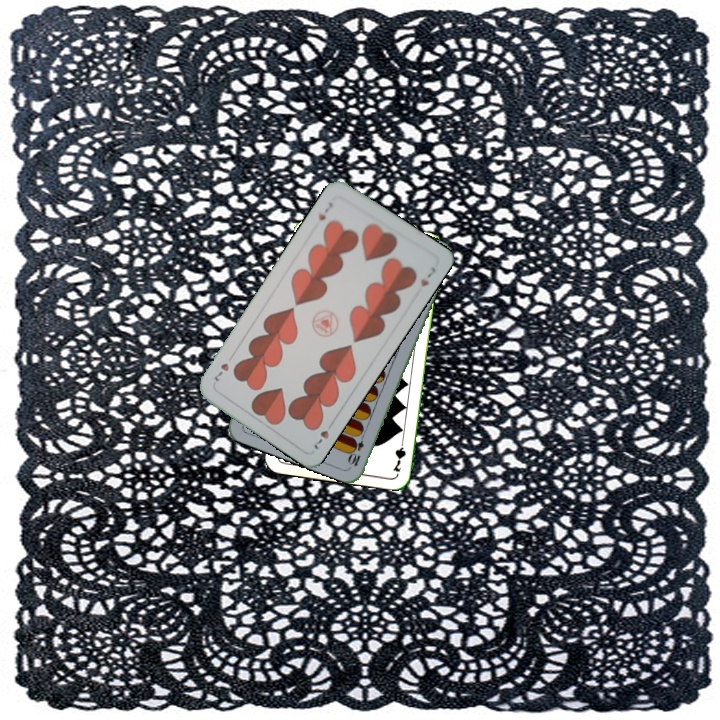E10: (346, 428, 368, 469)
G7: (389, 434, 408, 474)
H7: (309, 426, 332, 452), (314, 198, 335, 223)
